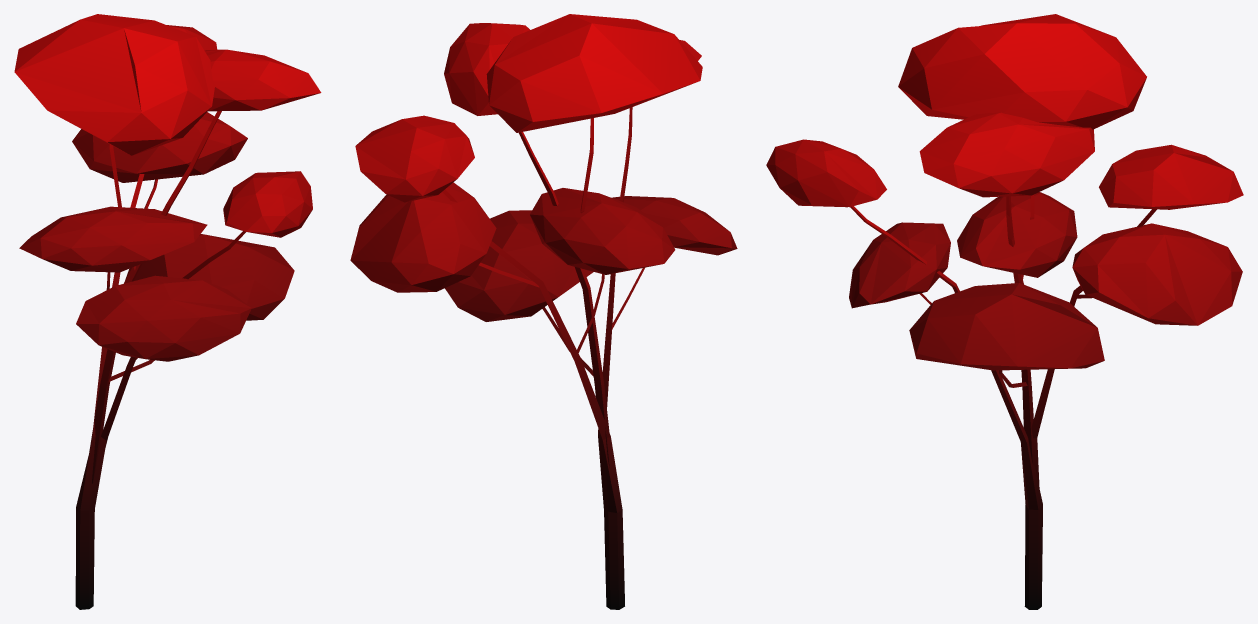
The model's file is TreeCedar09.fbx.
The picture shows the model from 3 angles, left to right: view 1: azimuth 30°, elevation 25°; view 2: azimuth 150°, elevation 25°; view 3: azimuth 270°, elevation 25°; orthographic projection. The views are drawn at different scales.
Visible parts, largest first — view 1: TreeCedar09_LOD0; view 2: TreeCedar09_LOD0; view 3: TreeCedar09_LOD0.
Boxes of the visible parts, left/top/right/bottom form: TreeCedar09_LOD0: left=14, top=14, right=321, bottom=609; TreeCedar09_LOD0: left=350, top=14, right=737, bottom=609; TreeCedar09_LOD0: left=766, top=14, right=1243, bottom=609.
Size of what is drawn, in the model's own units: 497 by 1027 by 742.
